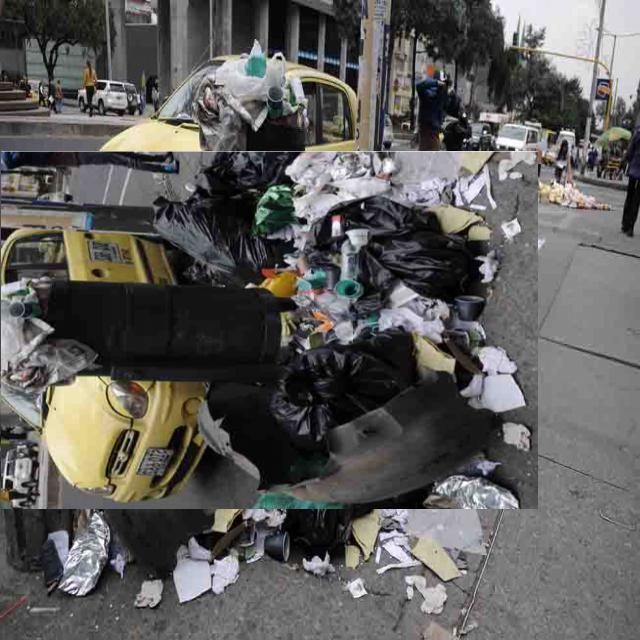Anorganik: (23, 99, 486, 563)
